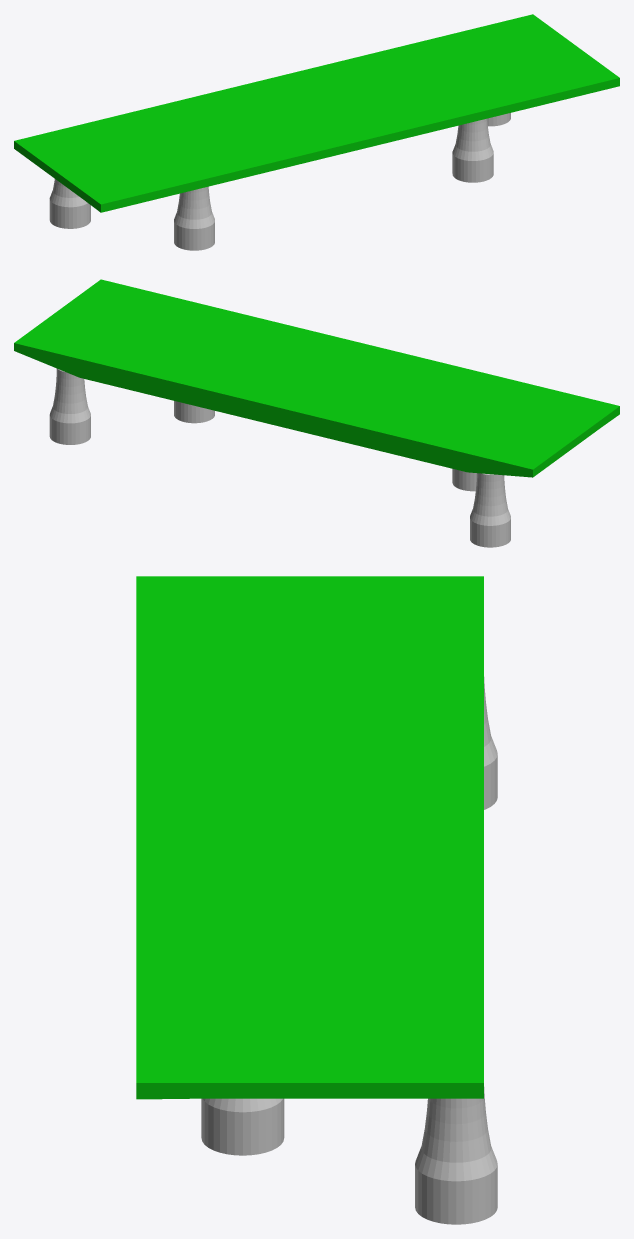
Rendered from afa chapel altar.fbx.
3 renders of one model, top to bottom at view 1: azimuth 30°, elevation 25°; view 2: azimuth 150°, elevation 25°; view 3: azimuth 270°, elevation 25°, orthographic. The views are drawn at different scales.
Visible parts, largest first — view 1: Cylinder.001; view 2: Cylinder.001; view 3: Cylinder.001.
Boxes of the visible parts, x1,y1,x2,y2 form: Cylinder.001: [14, 14, 619, 250]; Cylinder.001: [14, 279, 619, 547]; Cylinder.001: [136, 576, 497, 1224].
Bounding box in the file's own units: 1449 × 230 × 437.
